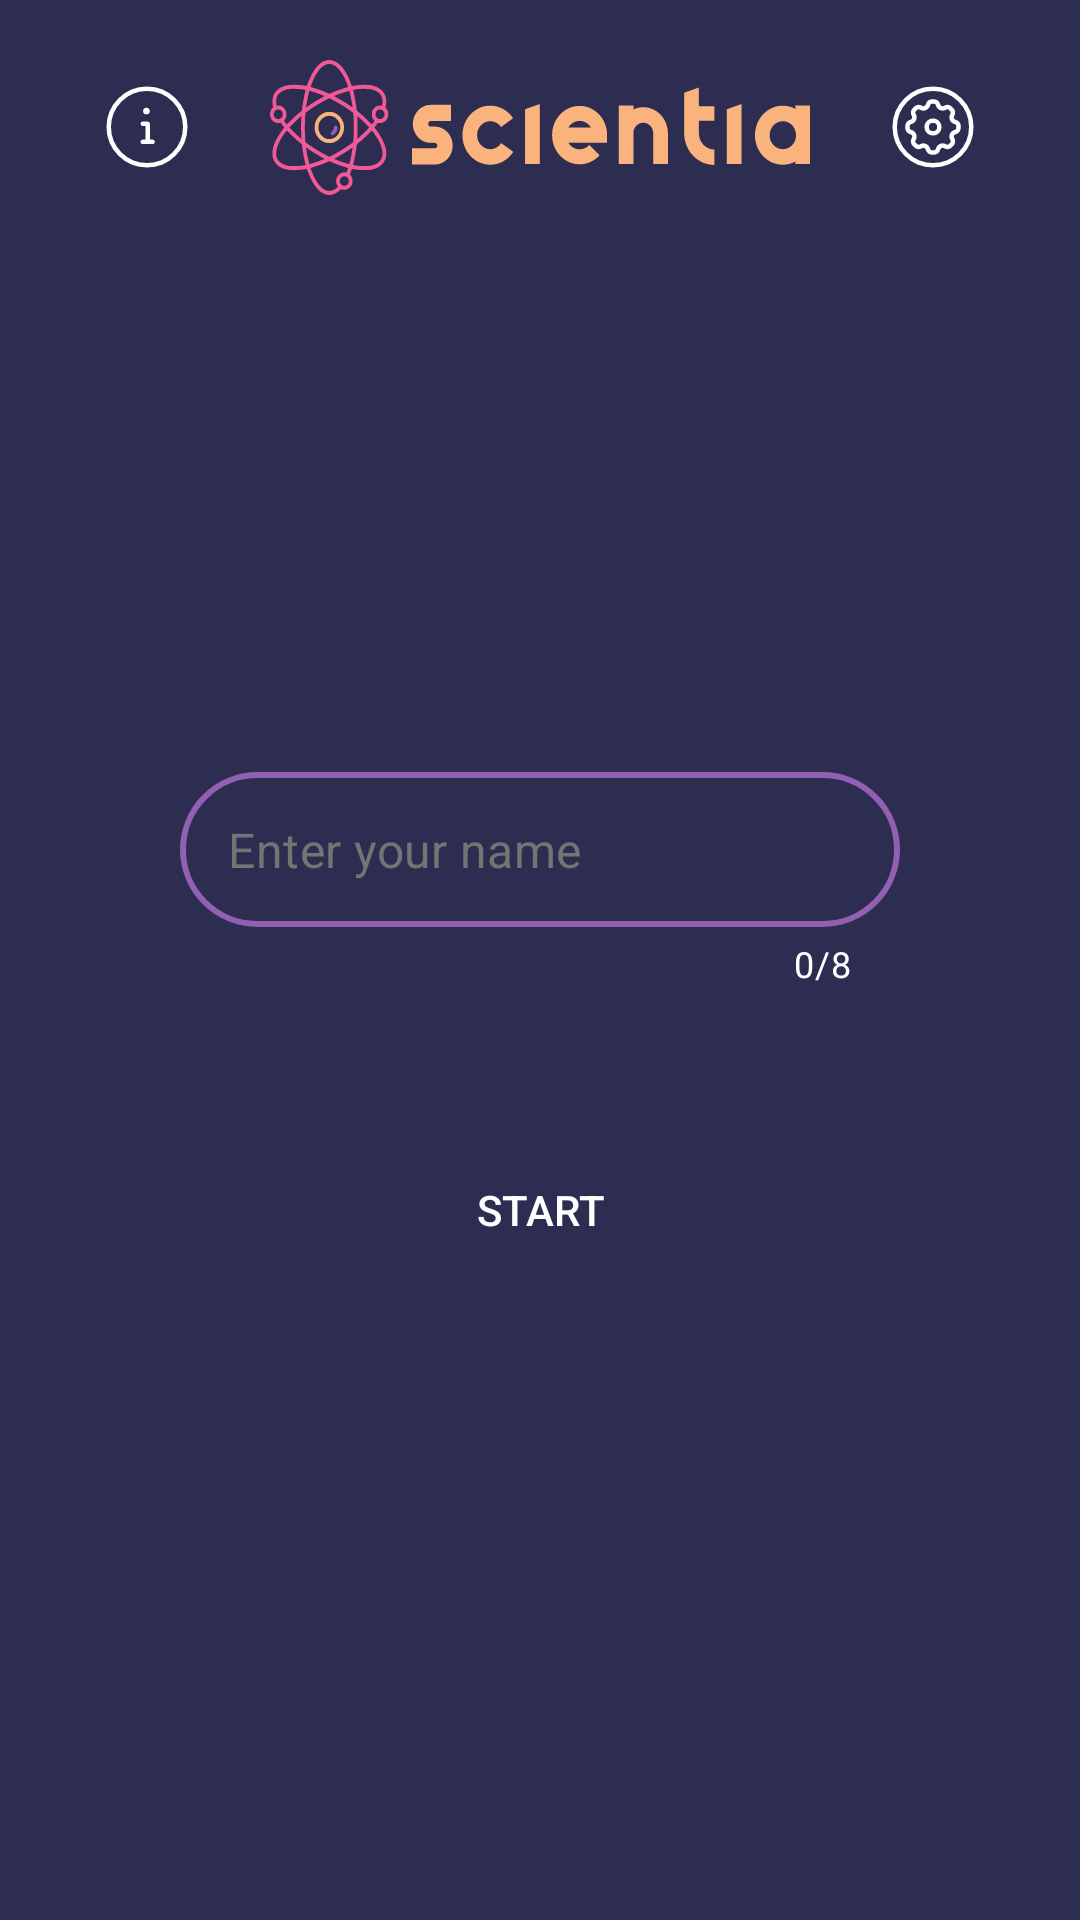

Screen size 1080px x 1920px. Icon name, then its center in pixels as [x,y]:
info: [147,127]
settings: [933,127]
